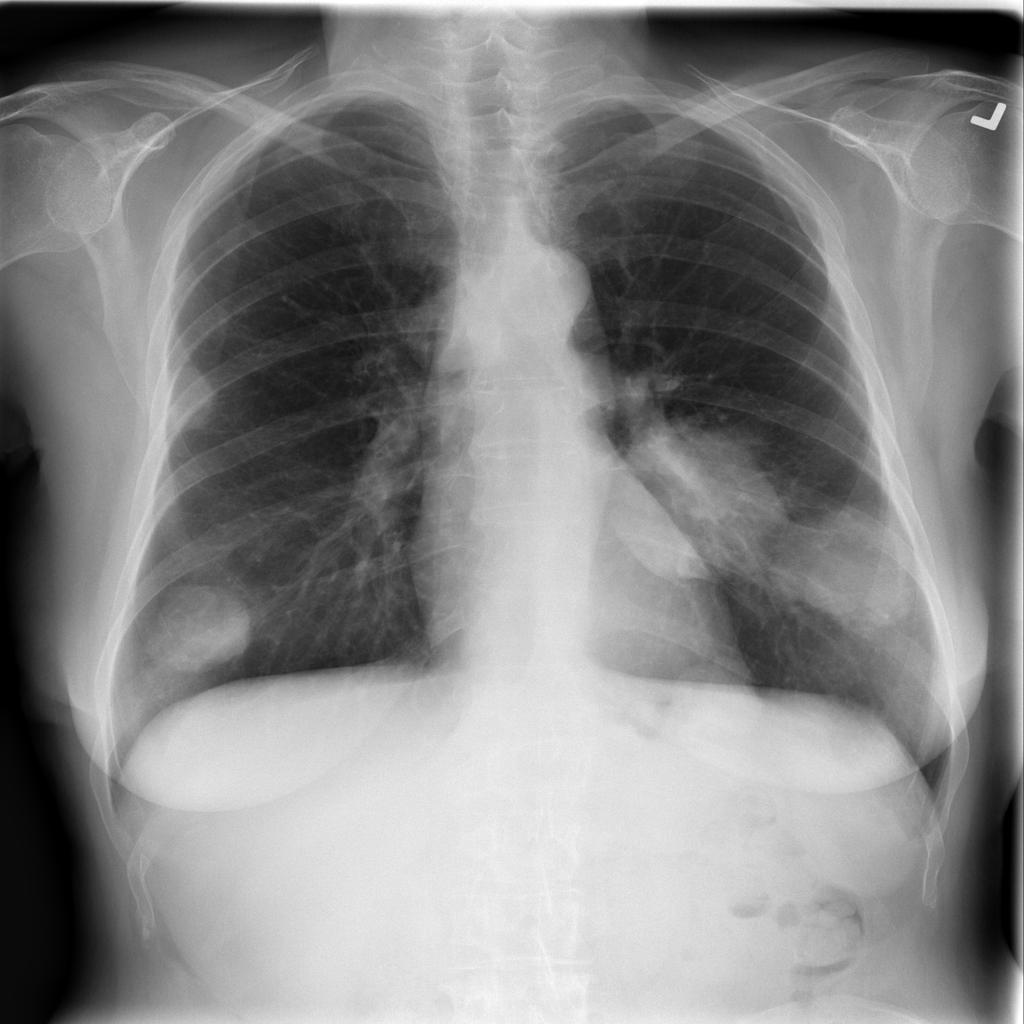nodule: (574, 414, 784, 597), (752, 493, 941, 632), (125, 569, 273, 690)
